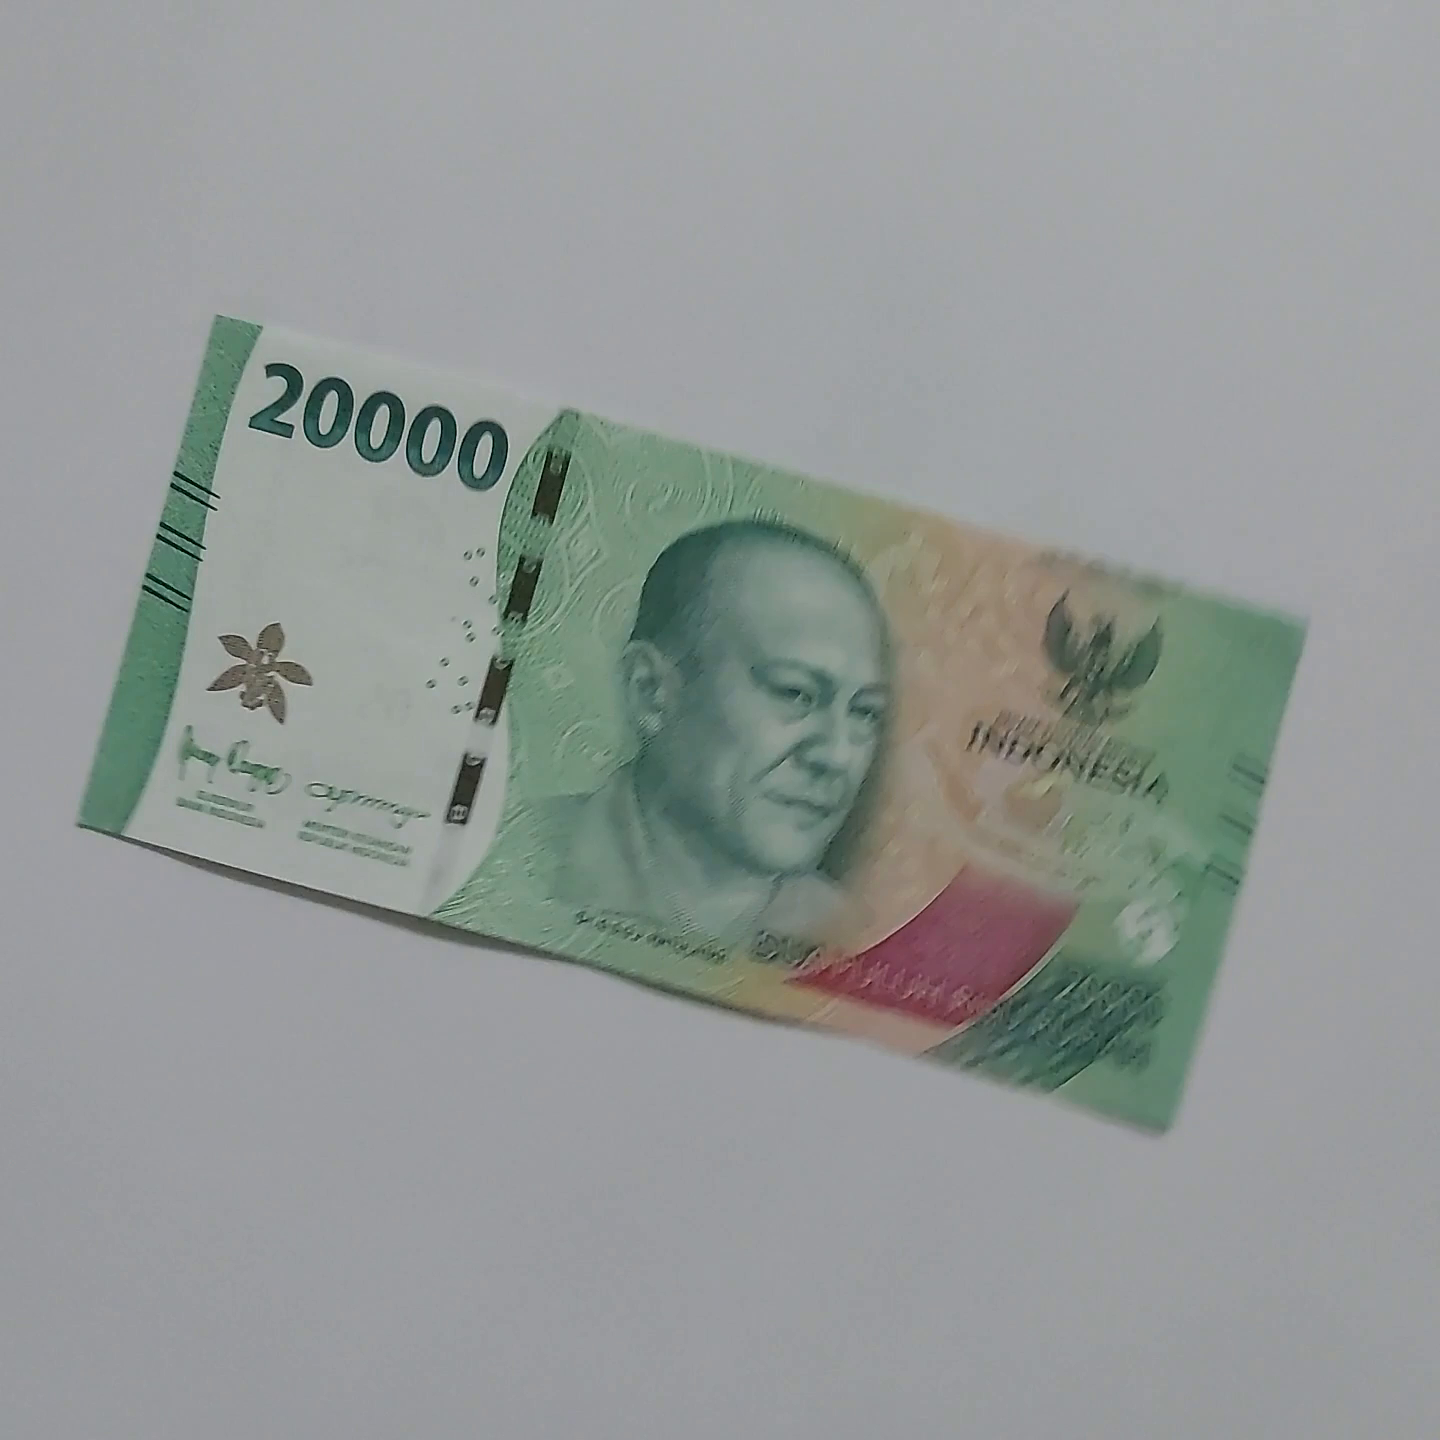20k: (203, 295, 1353, 869)
